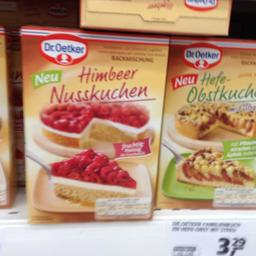cake: (18, 25, 172, 224), (156, 33, 254, 216)
